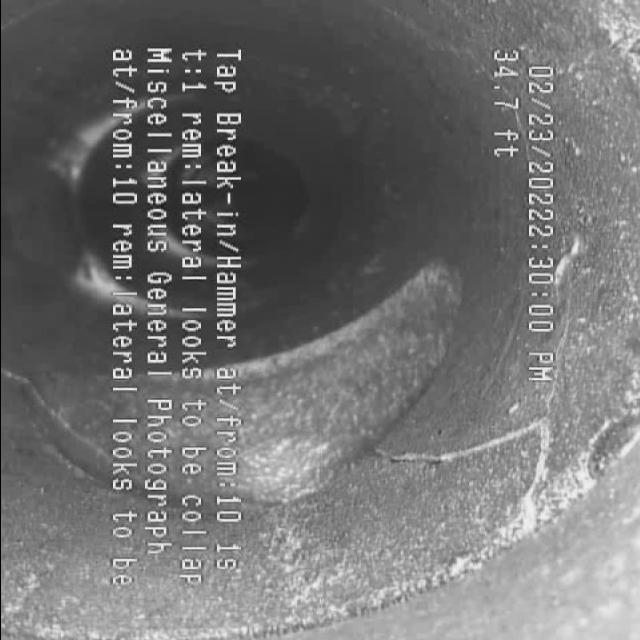Crack: (356, 434, 578, 489)
